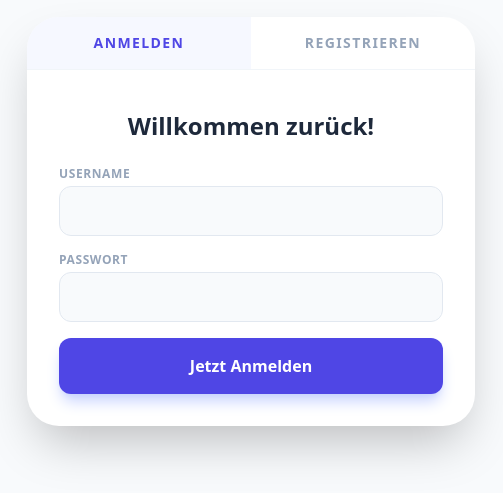
Test case: LoginView.vue › sollte zwischen Login und Registrierungs-Modus umschalten
The image size is (503, 493).
Klick auf "Registrieren" Tab
Click the button "Registrieren" at (363, 42), box [251,16,475,68]
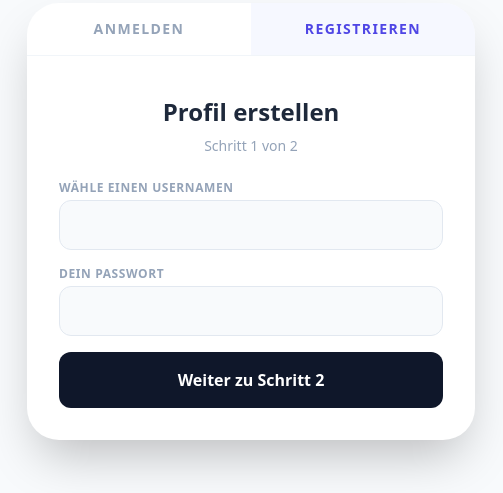
Check: the text "Profil erstellen" is shown, box [163,94,339,128]
